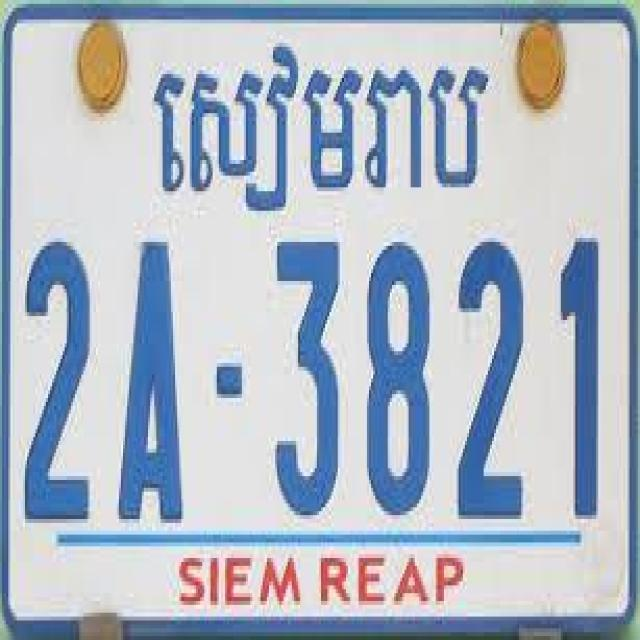Siem_Reap: (154, 43, 489, 214)
